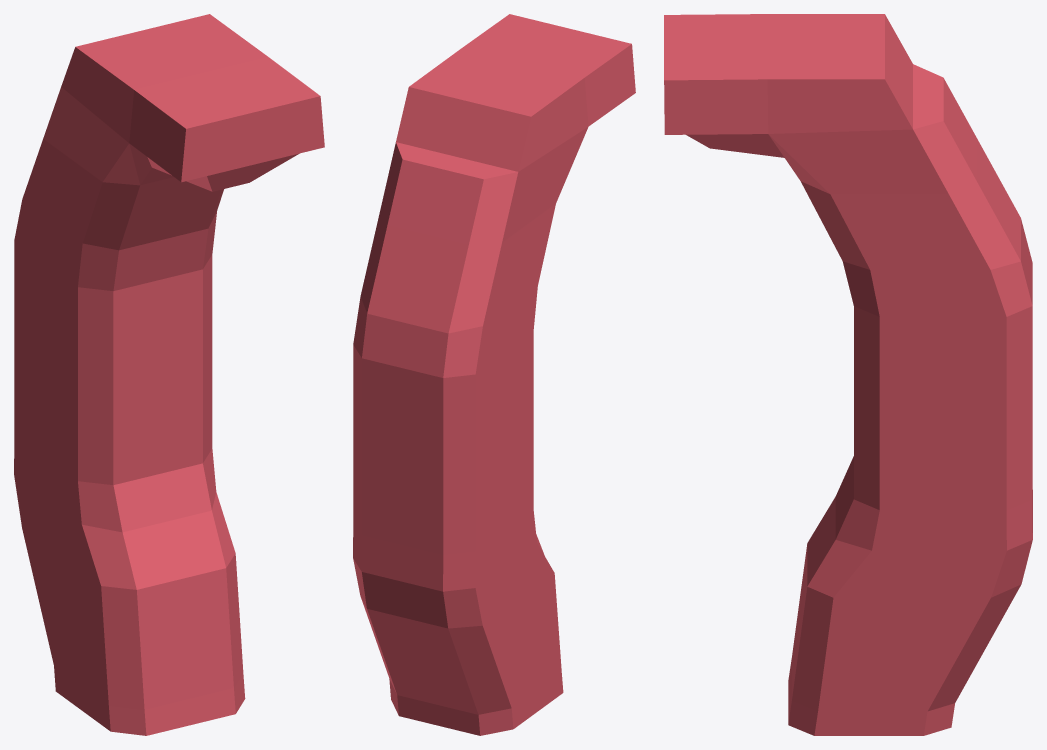
Rendered from gate-scifi.fbx.
3 renders of one model, left to right at view 1: azimuth 30°, elevation 25°; view 2: azimuth 150°, elevation 25°; view 3: azimuth 270°, elevation 25°, orthographic. The views are drawn at different scales.
Visible parts, largest first — view 1: gate-scifi; view 2: gate-scifi; view 3: gate-scifi.
Part boxes in pixels (x1,y1,x2,y2): gate-scifi: (14, 14, 324, 735); gate-scifi: (353, 14, 635, 735); gate-scifi: (664, 14, 1032, 735).
Bounding box in the file's own units: 0.7436 × 3.27 × 1.66.
